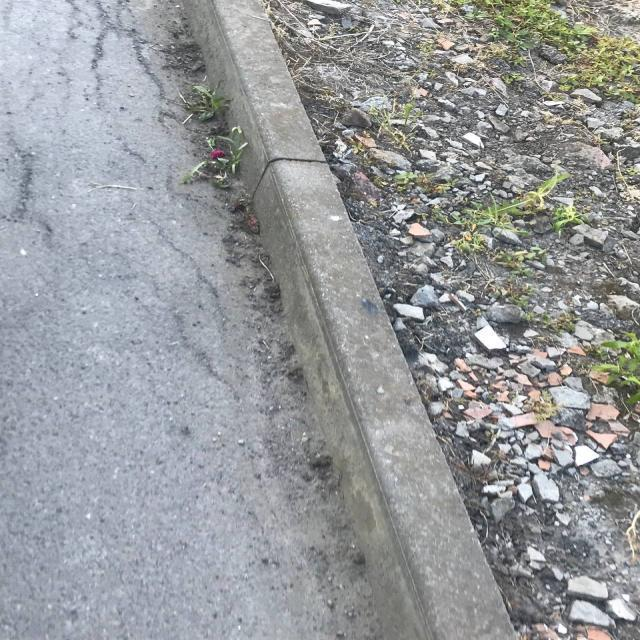bump: (302, 324, 516, 639), (190, 0, 366, 369)
